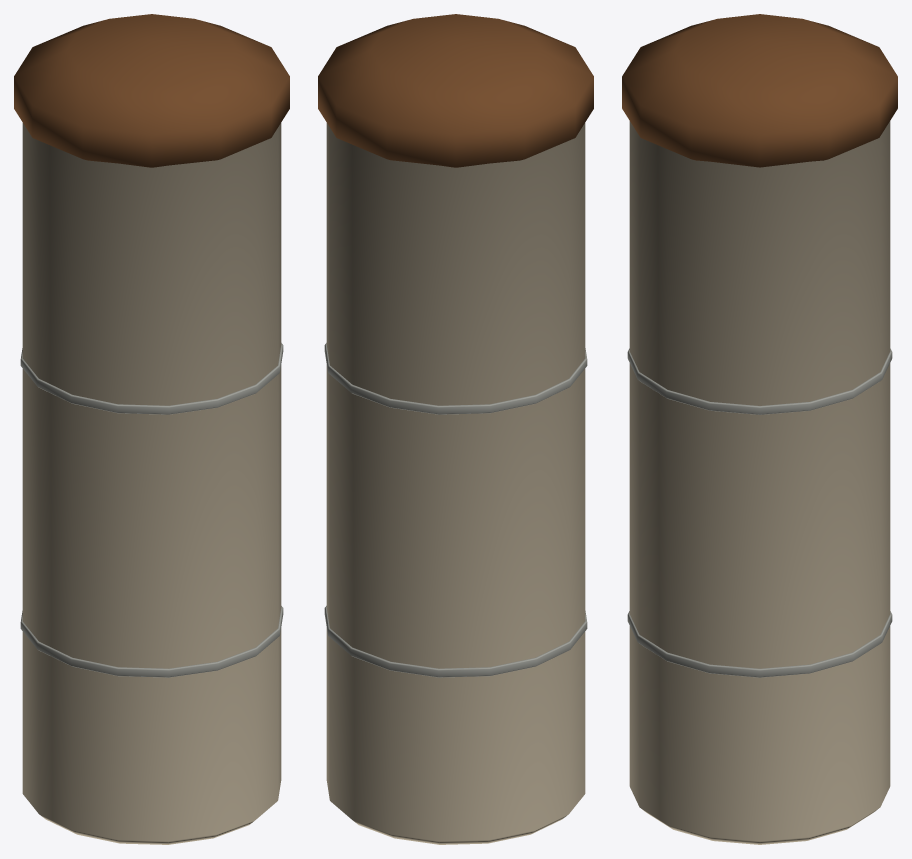
File: silo.glb
3 views of the same model, side by side, from view 1: azimuth 30°, elevation 25°; view 2: azimuth 150°, elevation 25°; view 3: azimuth 270°, elevation 25° (orthographic).
Visible parts, largest first — view 1: silo; view 2: silo; view 3: silo.
Part boxes in pixels (box(x1,y1,x2,y2)): silo: box(14, 14, 289, 844); silo: box(318, 14, 593, 844); silo: box(622, 14, 897, 844).
Bounding box in the file's own units: 2.85 × 8.6 × 2.85.
